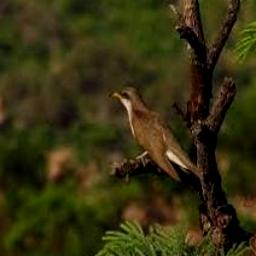Cuckoo: (112, 85, 203, 183)
